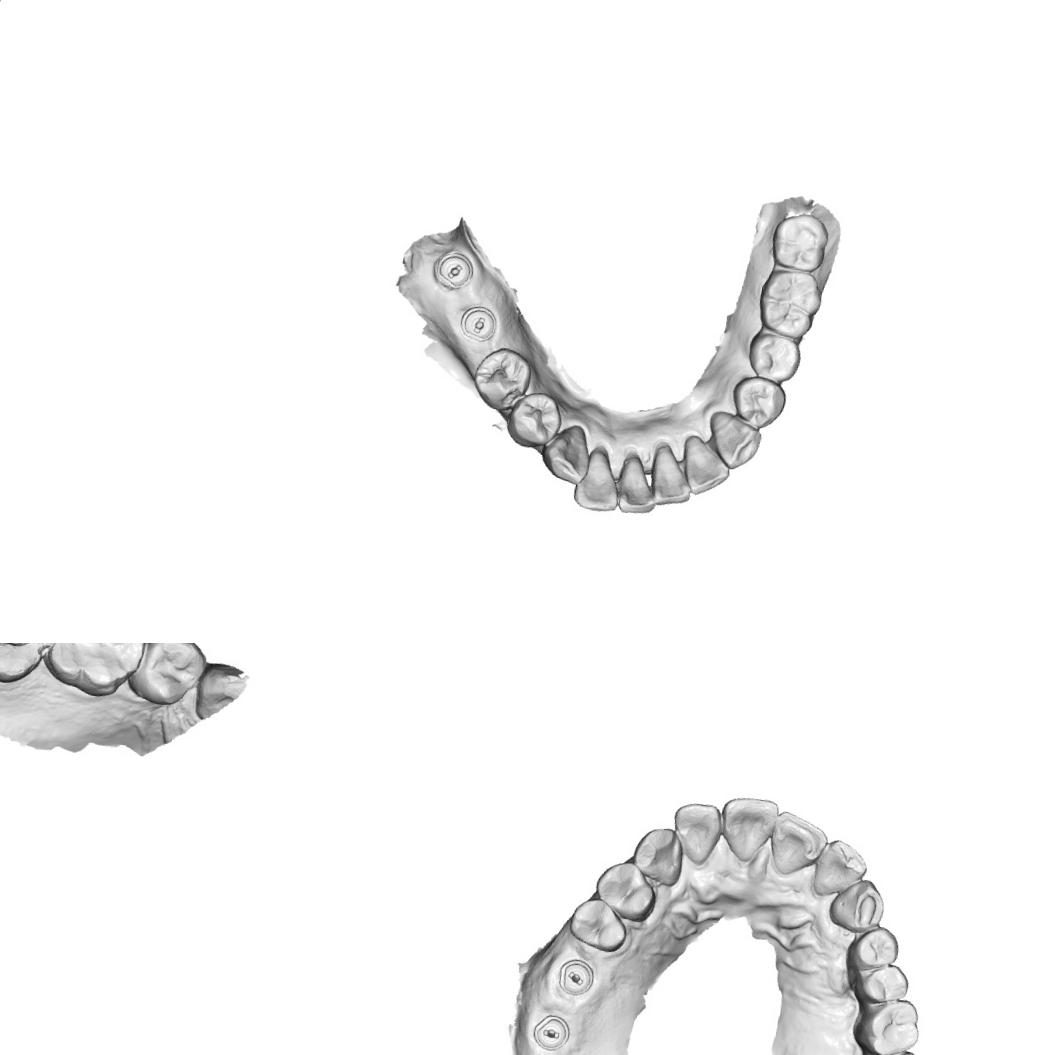canine: (701, 408, 768, 474), (824, 872, 890, 938), (538, 417, 596, 488), (628, 822, 688, 889)
implant_minus: (428, 247, 478, 296), (528, 1010, 573, 1055), (555, 956, 600, 1000), (457, 302, 499, 344)
incisor: (763, 808, 833, 884), (714, 790, 782, 868), (808, 834, 872, 904), (675, 432, 736, 500), (666, 798, 725, 868), (643, 442, 699, 512), (570, 447, 626, 515), (609, 450, 664, 519)
molar: (42, 643, 153, 701), (752, 265, 826, 343), (847, 991, 925, 1055), (766, 208, 834, 277), (852, 1041, 927, 1055)
premolar: (125, 643, 210, 714), (466, 341, 536, 417), (588, 856, 662, 926), (502, 386, 568, 454), (564, 894, 633, 956), (725, 371, 790, 434), (743, 328, 807, 388), (842, 920, 904, 976), (856, 958, 913, 1010)
